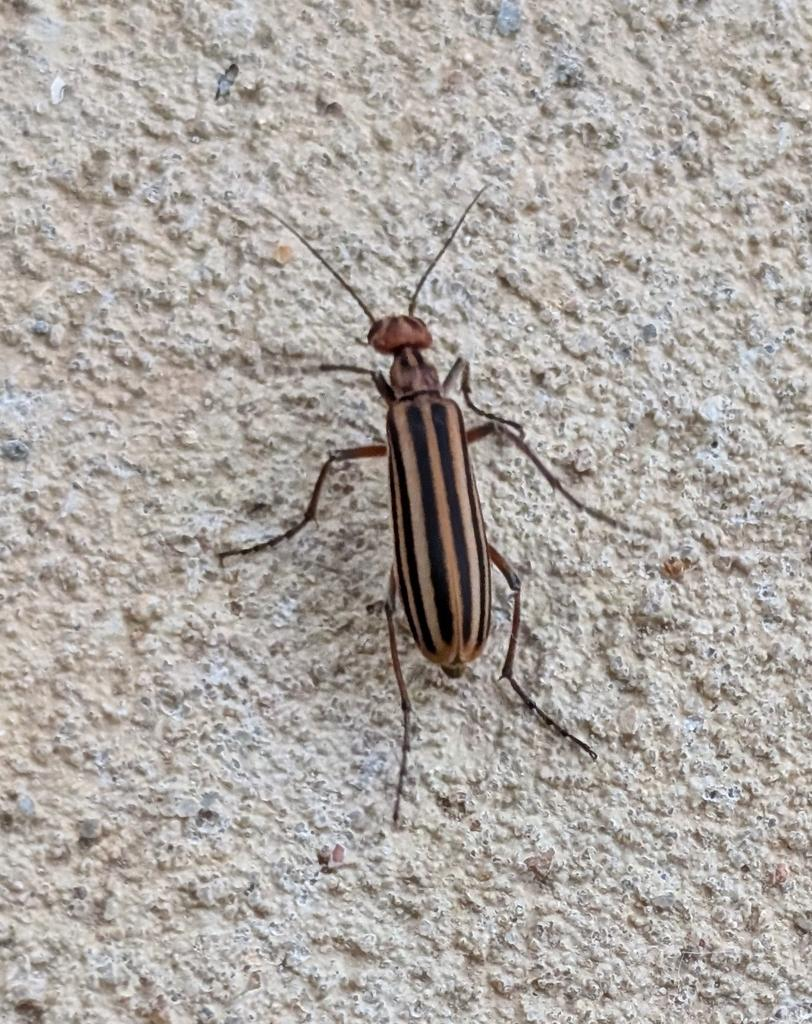blister_beetle: (174, 122, 722, 882)
